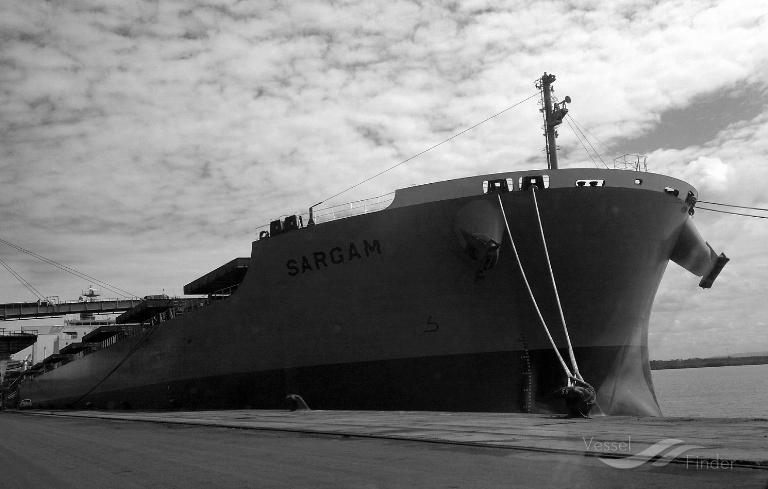OCR: (282, 240, 388, 282)
